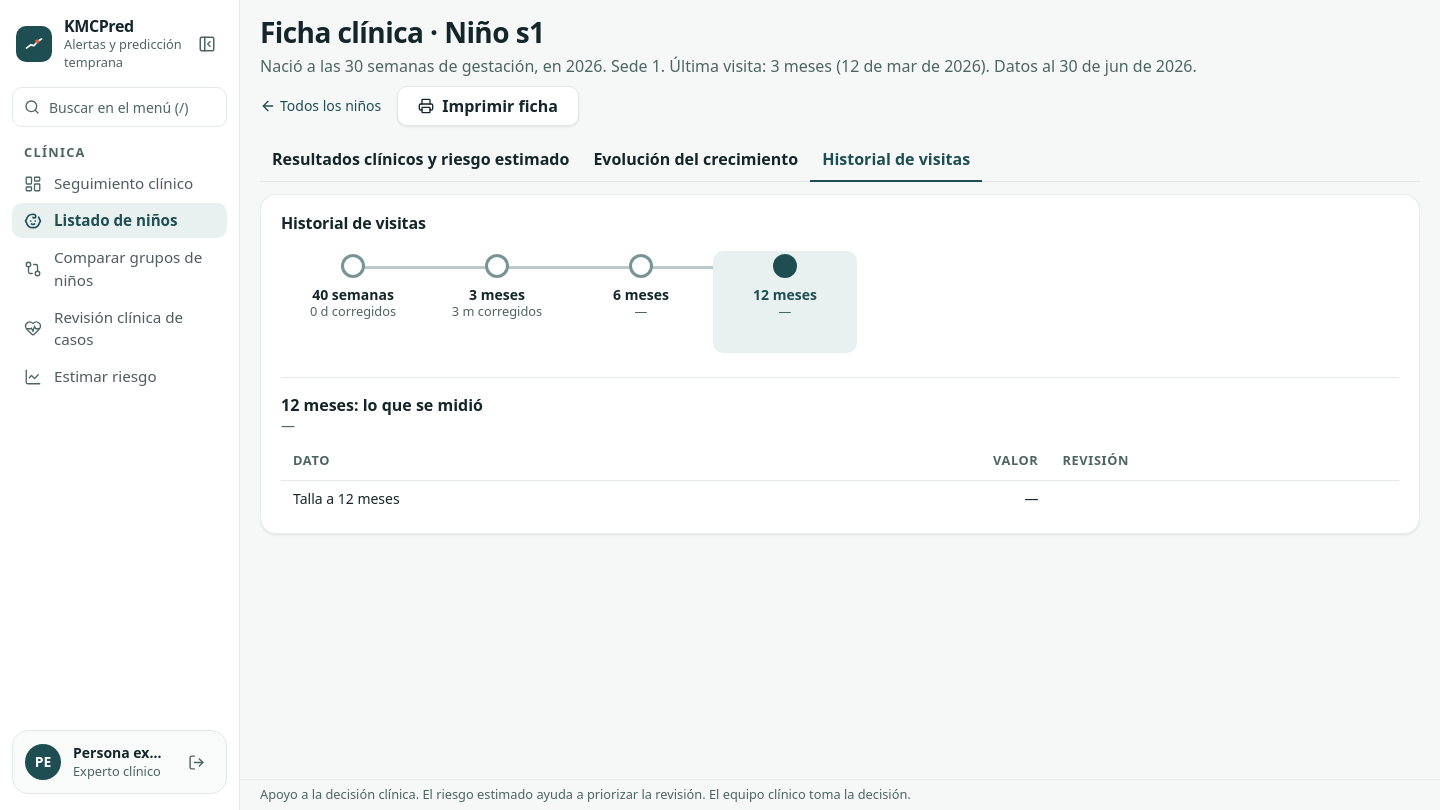
Test case: las visitas dicen las unidades como se escriben en clínica › «CMS» sale como «cm»
Click the button "3 meses 3 m corregidos" at (497, 302), box left=425, top=251, right=569, bottom=353
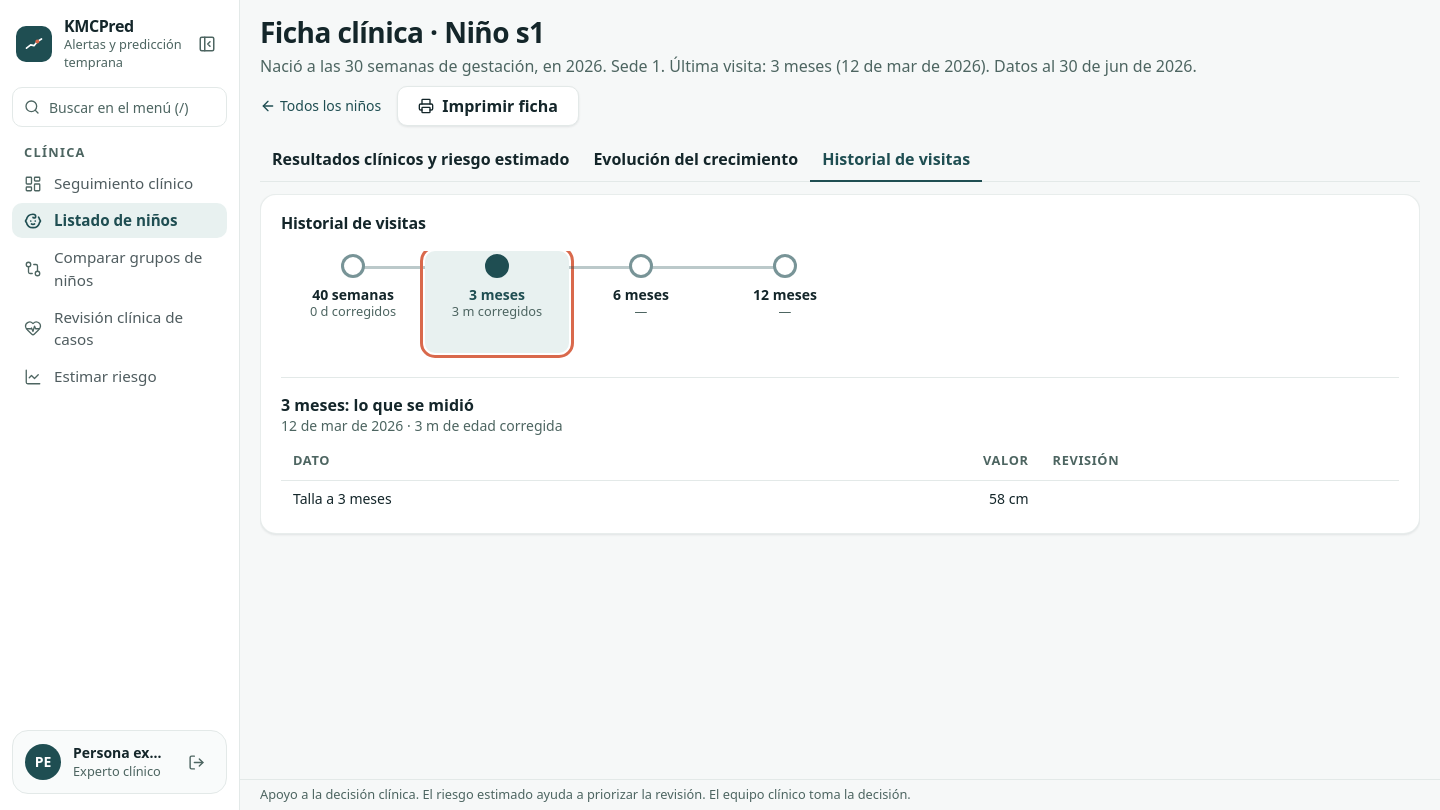
Expected: the text "Talla a 3 meses" does not show "CMS", left=281, top=480, right=1399, bottom=517
Expected: the text "Talla a 3 meses" shows "58 cm", left=281, top=480, right=1399, bottom=517
